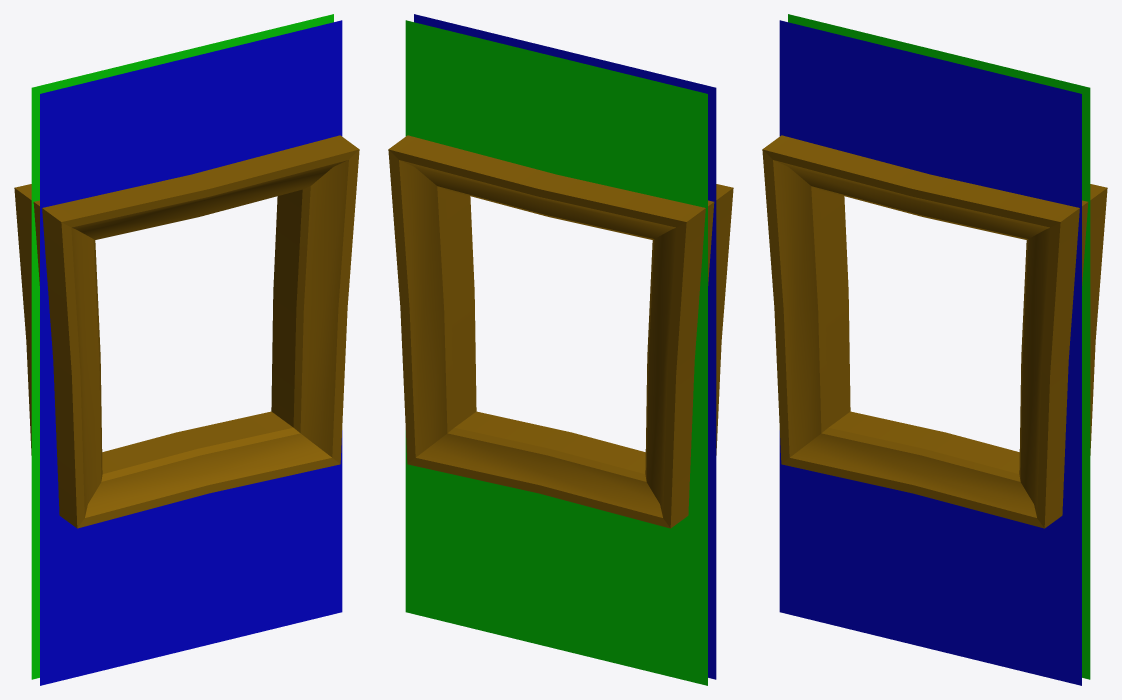
File: paredventana_corta.fbx
The picture shows the model from 3 angles, left to right: view 1: azimuth 30°, elevation 25°; view 2: azimuth 150°, elevation 25°; view 3: azimuth 330°, elevation 25°; orthographic projection.
Visible parts, largest first — view 1: paredventana4; view 2: paredventana4; view 3: paredventana4.
Part boxes in pixels (x1,y1,x2,y2): paredventana4: (14,14,359,685); paredventana4: (388,14,733,685); paredventana4: (762,14,1107,685).
Size of the model in its own units: 139 by 260 by 37.38.
